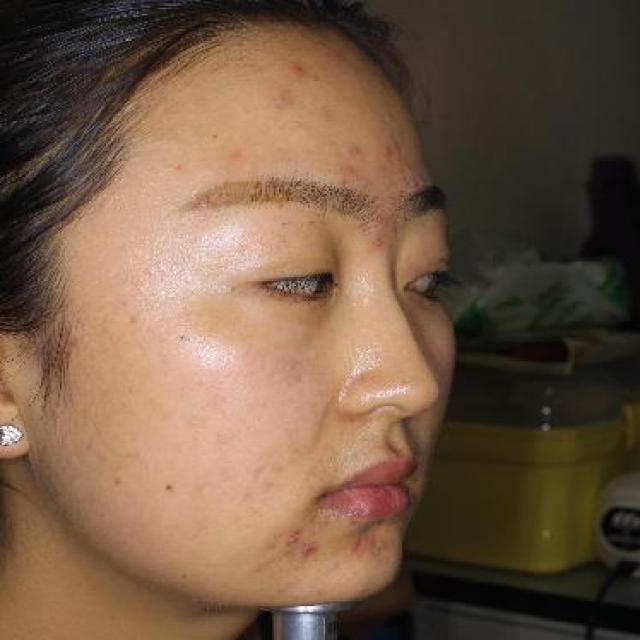Acne: (285, 55, 314, 82)
Whiteheads: (368, 233, 388, 253)
